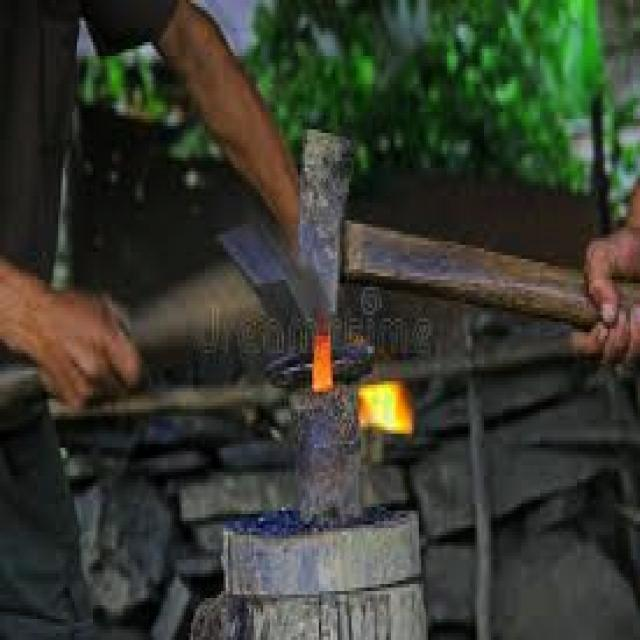hammer: (291, 115, 640, 364)
